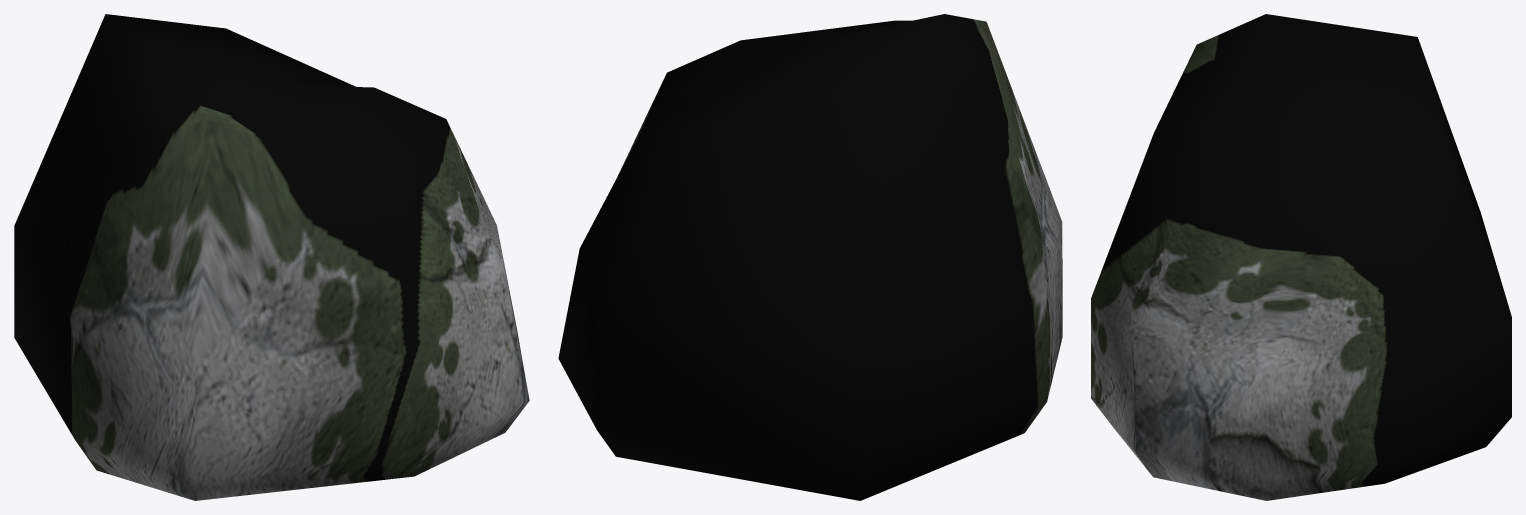
The model's file is Roca1.obj.
The picture shows the model from 3 angles, left to right: view 1: azimuth 30°, elevation 25°; view 2: azimuth 150°, elevation 25°; view 3: azimuth 270°, elevation 25°; orthographic projection. The views are drawn at different scales.
Visible parts, largest first — view 1: Rock01; view 2: Rock01; view 3: Rock01.
Part boxes in pixels (x1=…): Rock01: x1=14, y1=14, x2=529, y2=500; Rock01: x1=558, y1=14, x2=1062, y2=500; Rock01: x1=1091, y1=14, x2=1511, y2=500.
Size of the model in its own units: 2.93 by 2.47 by 2.71.
Materials: 1 (1 with a texture image).
